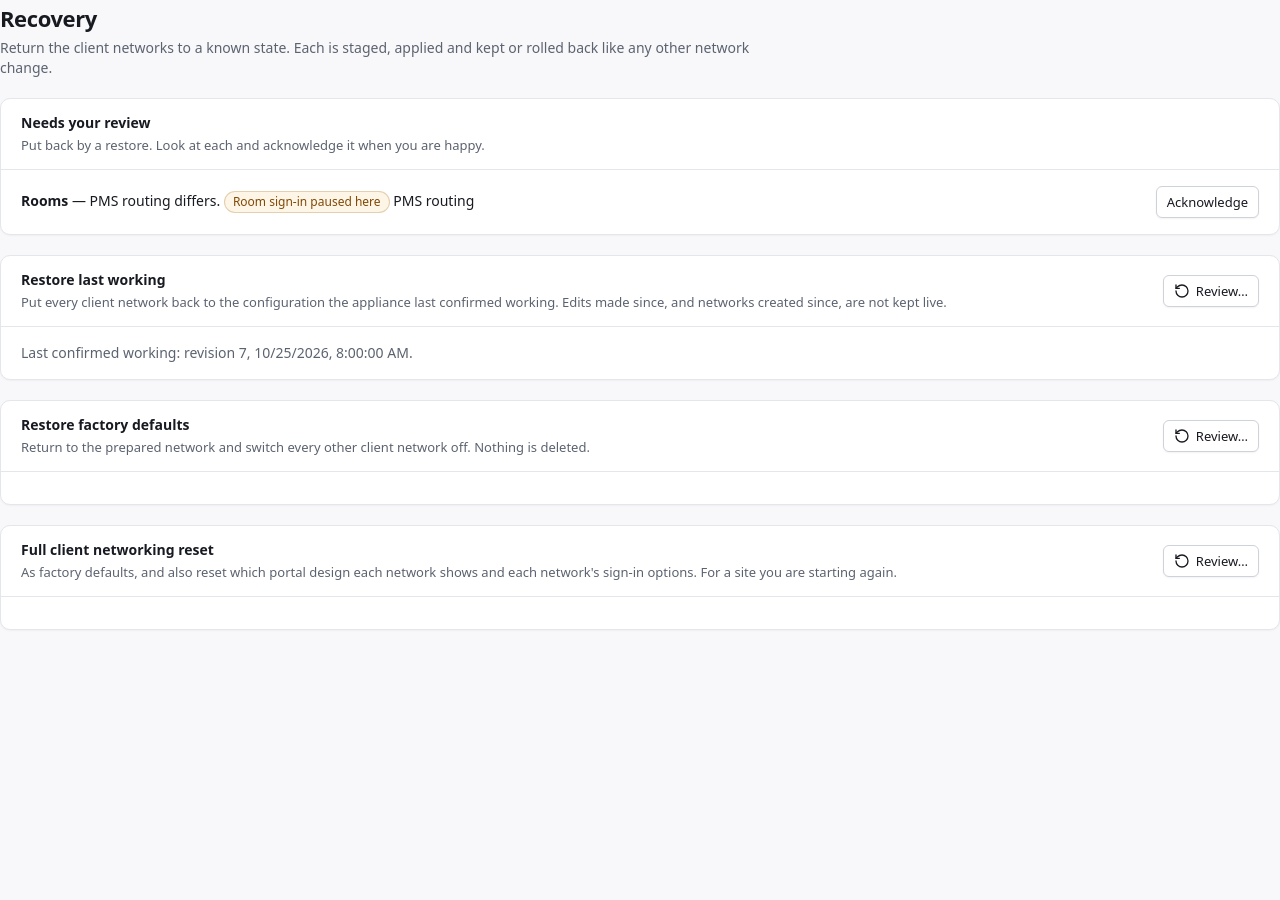
Test: recovery page › shows a prepared network that would be created when the old one was changed beyond restoring
Expected: the text "Last confirmed working: revision 7, 10/25/2026, 8:00:00 AM." is shown, [21, 343, 413, 362]
Click the button "Review…" in the row of "Restore factory defaults" at (1211, 436), box [1163, 420, 1259, 452]
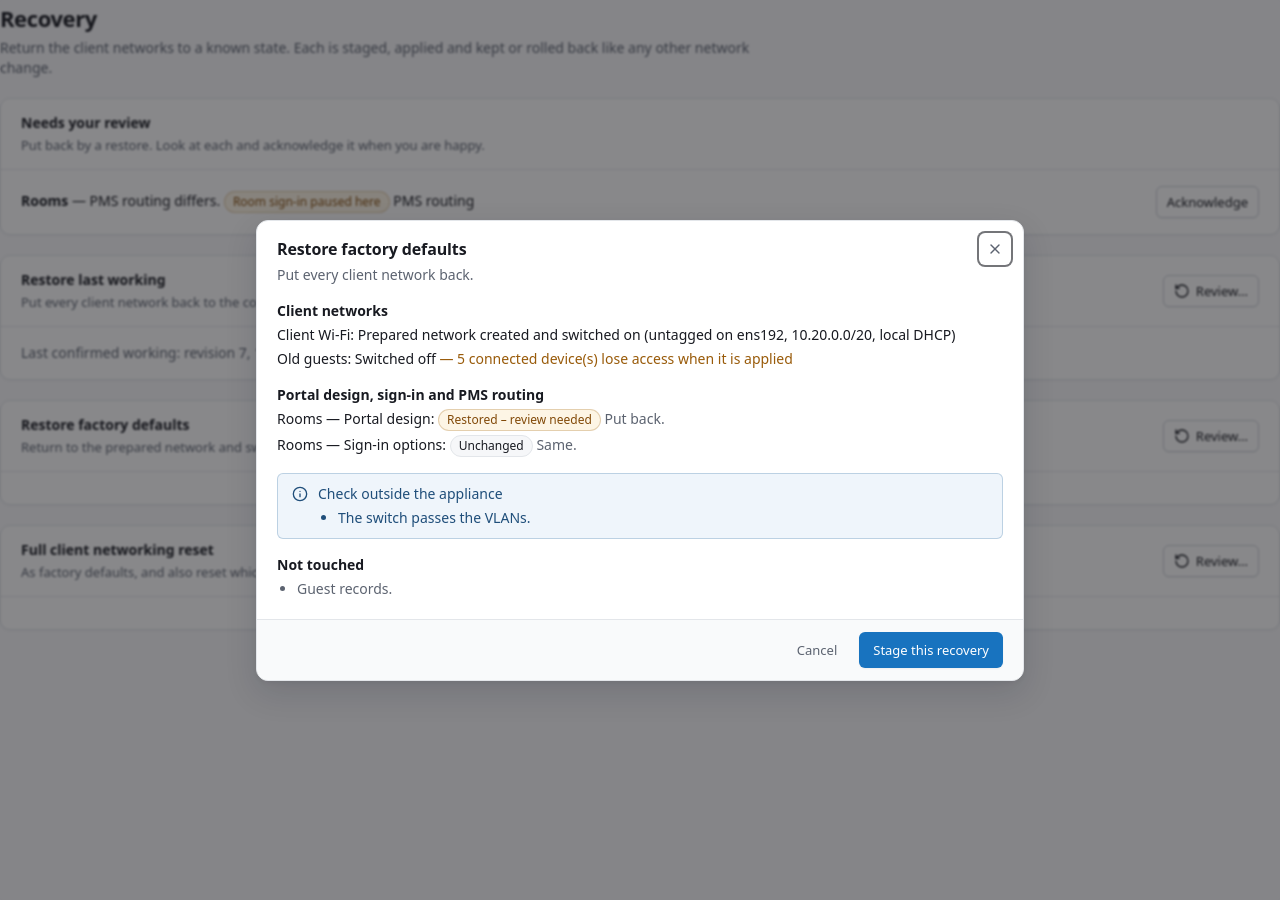
Expected: the list item "Client Wi-Fi: Prepared network created and switched on" is shown, [277, 324, 1003, 344]
Expected: the button "Stage this recovery" is enabled, [859, 632, 1003, 668]
